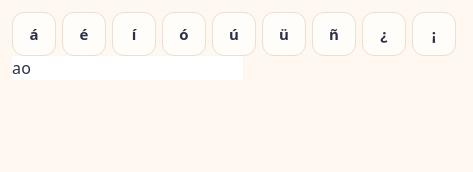
Test: 字元列 › 連點兩個字元不會錯位
Click the button "ñ": (334, 34) x1=312 y1=12 x2=356 y2=56
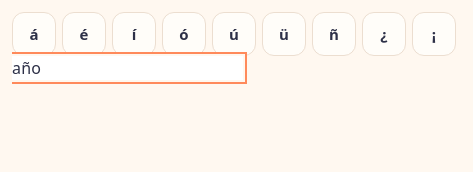
Click the button "í": (134, 34) x1=112 y1=12 x2=156 y2=56
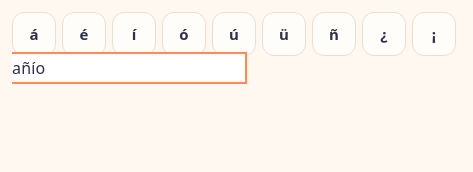
Now the field named "答案" holds "añío", box x1=12 y1=56 x2=243 y2=80
